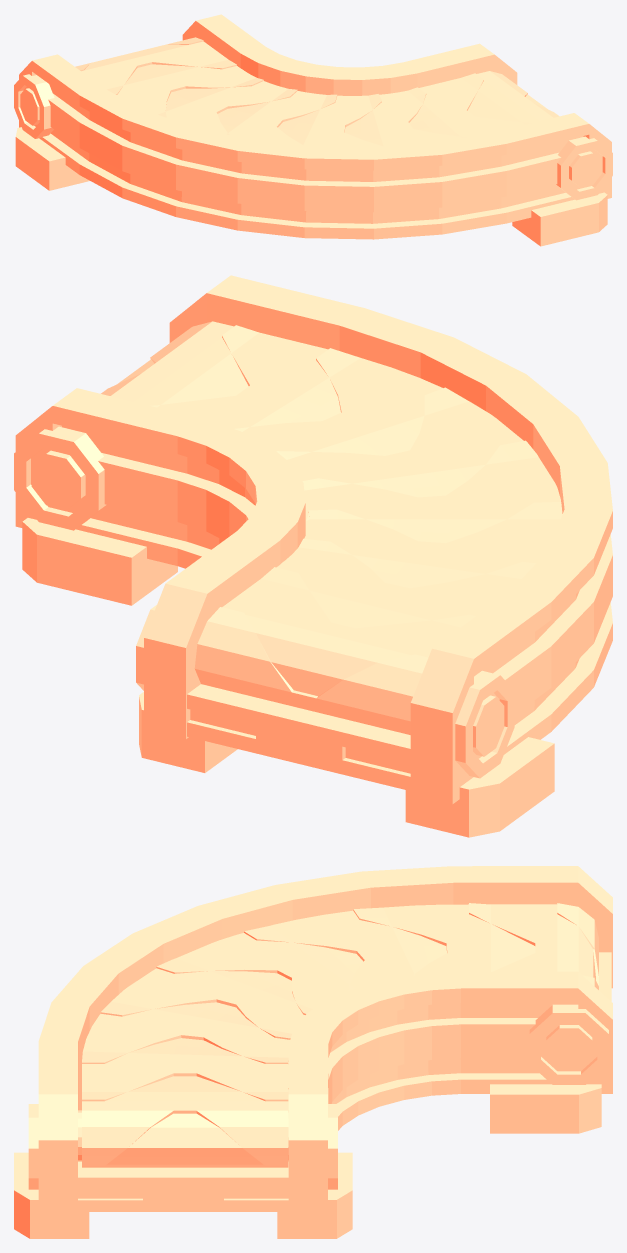
Rendered from belt_curve_r.glb.
The picture shows the model from 3 angles, top to bottom: view 1: azimuth 30°, elevation 25°; view 2: azimuth 150°, elevation 25°; view 3: azimuth 270°, elevation 25°; orthographic projection. The views are drawn at different scales.
Parts seen in each view (by area): view 1: Conveyor.R, Belt.R; view 2: Conveyor.R, Belt.R, Light.R; view 3: Conveyor.R, Belt.R, Light.R.
Boxes of the visible parts, box(x1,y1,x2,y2) form: Conveyor.R: box(14, 14, 612, 246); Belt.R: box(75, 37, 559, 147); Conveyor.R: box(14, 275, 612, 837); Belt.R: box(101, 321, 562, 734); Light.R: box(190, 709, 410, 773); Conveyor.R: box(14, 866, 612, 1238); Belt.R: box(82, 903, 598, 1167); Light.R: box(78, 1189, 288, 1198).
Size of the model in its own units: 0.6971 by 0.1732 by 0.6971.
